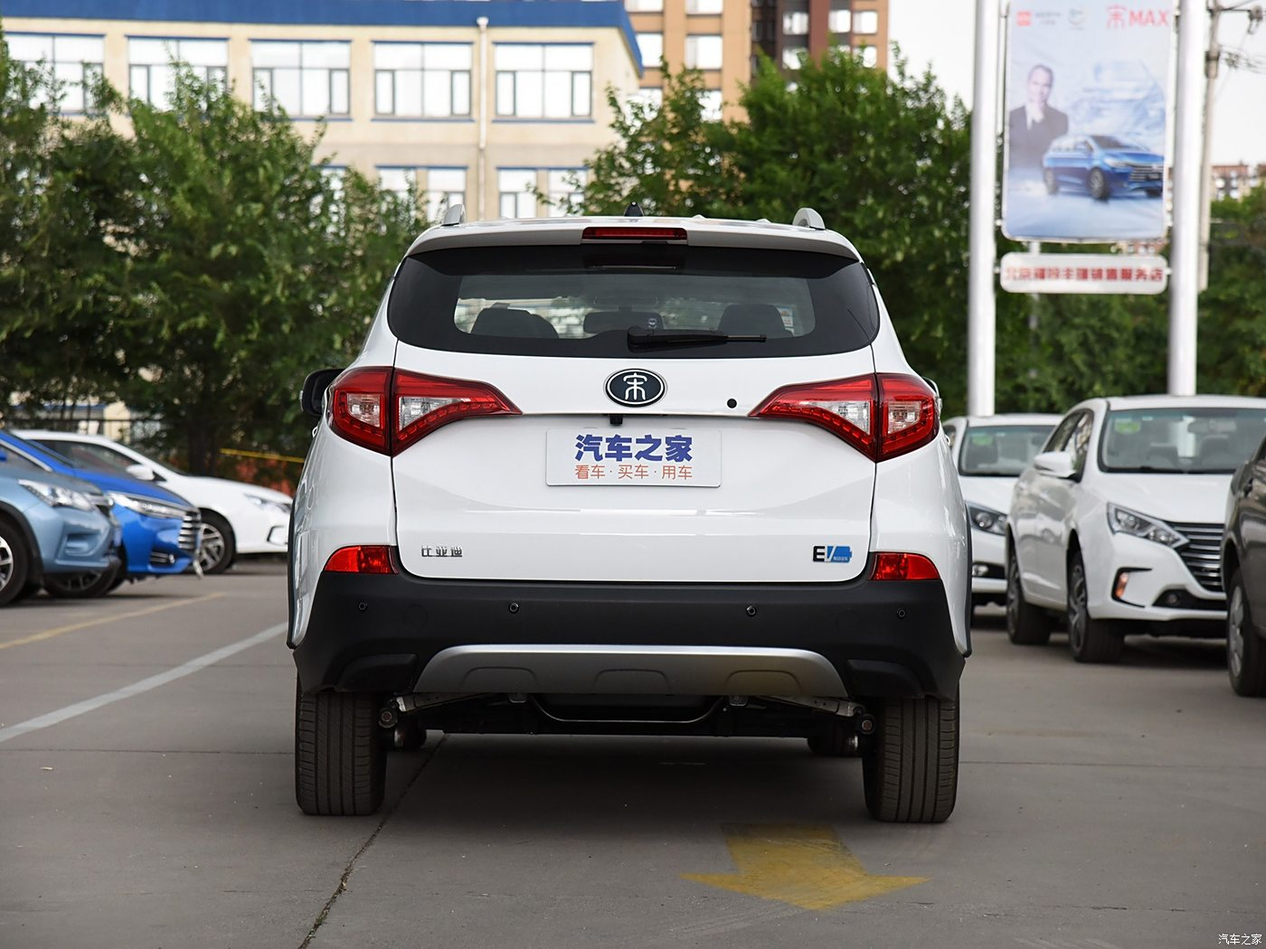BYD Song: (609, 371, 661, 402)
